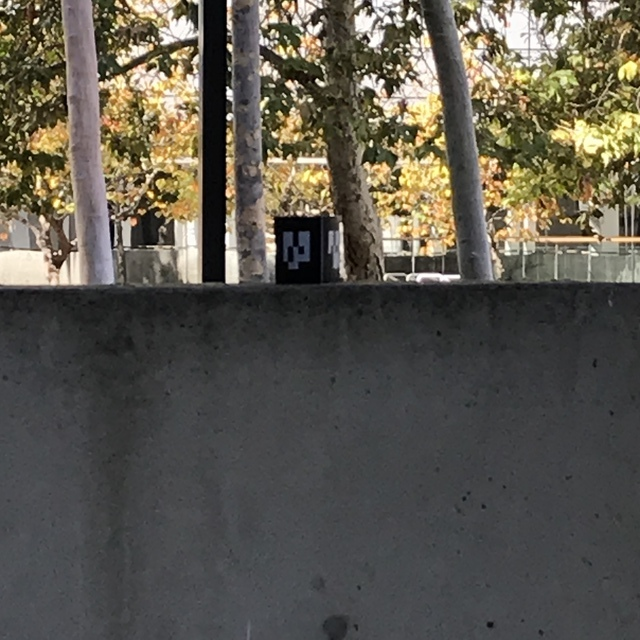ARTag: (275, 215, 342, 286)
